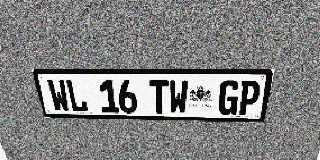1: (98, 79, 120, 113)
6: (117, 79, 138, 113)
G: (217, 80, 241, 115)
L: (65, 79, 89, 112)
P: (237, 80, 262, 115)
T: (149, 80, 168, 114)
W: (46, 79, 71, 112), (169, 80, 188, 114)
